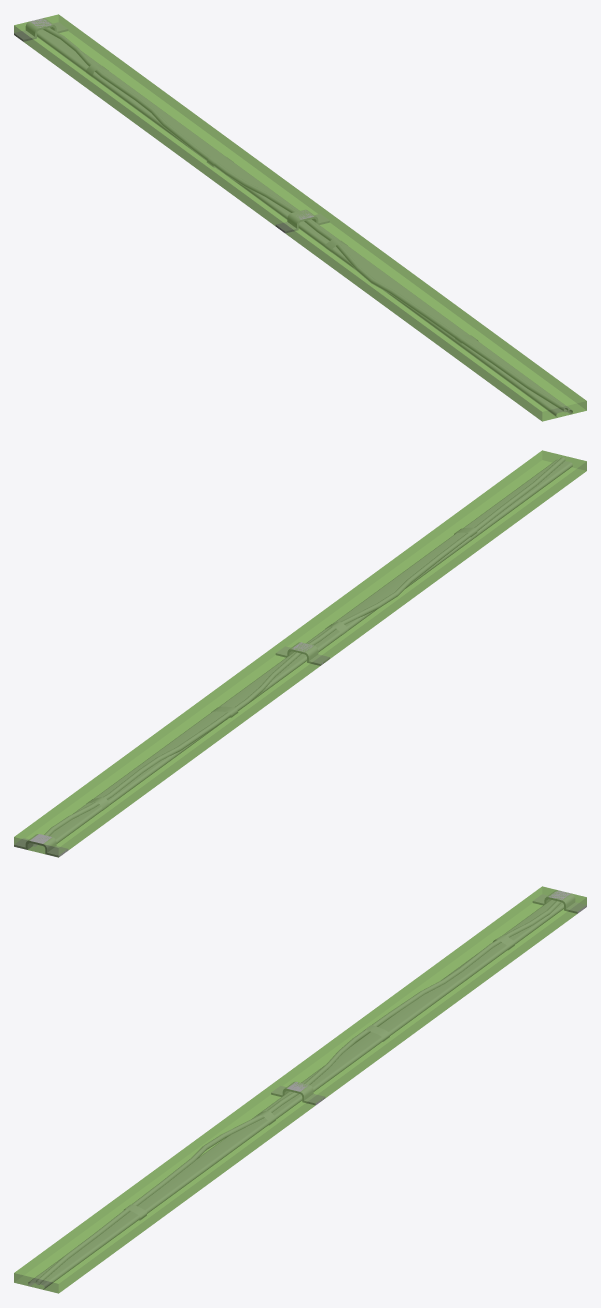
File: p_Cabling_2m_01_a.fbx
The picture shows the model from 3 angles, top to bottom: view 1: azimuth 30°, elevation 25°; view 2: azimuth 150°, elevation 25°; view 3: azimuth 330°, elevation 25°; orthographic projection.
Visible parts, largest first — view 1: p_Cabling_2m_01_a_col, p_Cabling_2m_01_a_LOD0; view 2: p_Cabling_2m_01_a_col, p_Cabling_2m_01_a_LOD0; view 3: p_Cabling_2m_01_a_col, p_Cabling_2m_01_a_LOD0.
Boxes of the visible parts, left/top/right/bottom form: p_Cabling_2m_01_a_col: left=14, top=14, right=586, bottom=421; p_Cabling_2m_01_a_LOD0: left=14, top=18, right=572, bottom=417; p_Cabling_2m_01_a_col: left=14, top=450, right=586, bottom=857; p_Cabling_2m_01_a_LOD0: left=14, top=457, right=572, bottom=857; p_Cabling_2m_01_a_col: left=14, top=886, right=586, bottom=1293; p_Cabling_2m_01_a_LOD0: left=28, top=890, right=586, bottom=1289.
Size of what is drawn, in the model's own units: 9.88 by 2.05 by 202.
